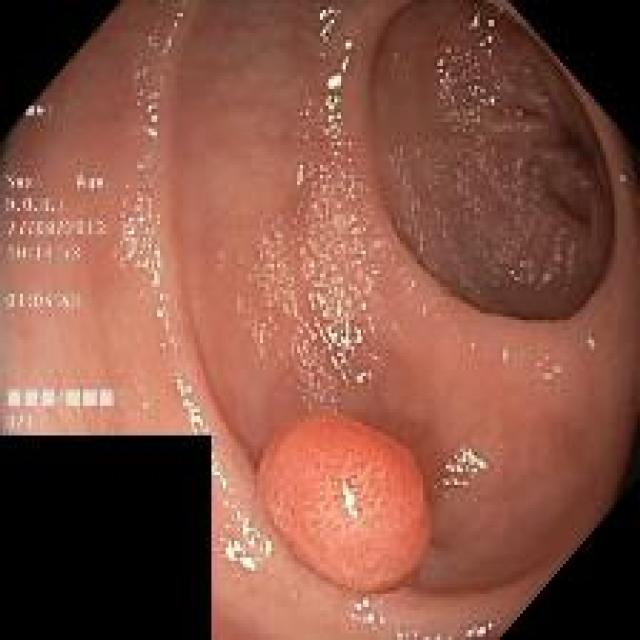Polyps: (258, 414, 432, 592)
